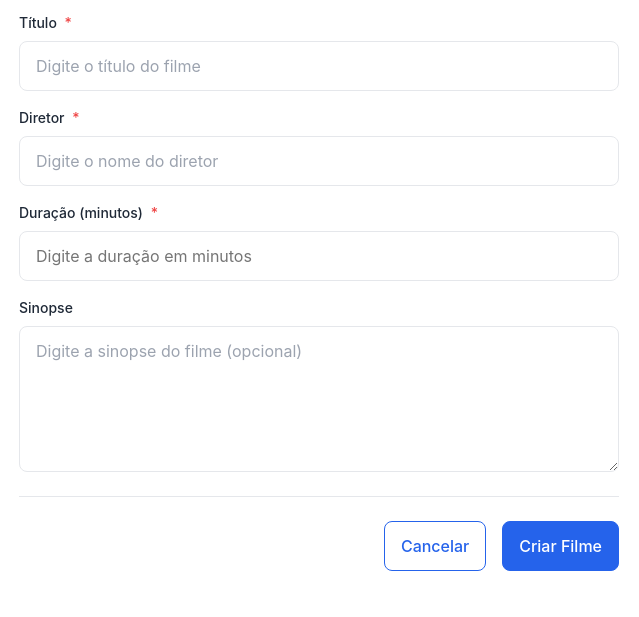
Test: MovieForm Component › validates duration is greater than 0
The image size is (639, 617).
Type "Test" into the field with placeholder "Digite o título do filme".
click(319, 66); type("Test")  # box 19,41 -> 619,91
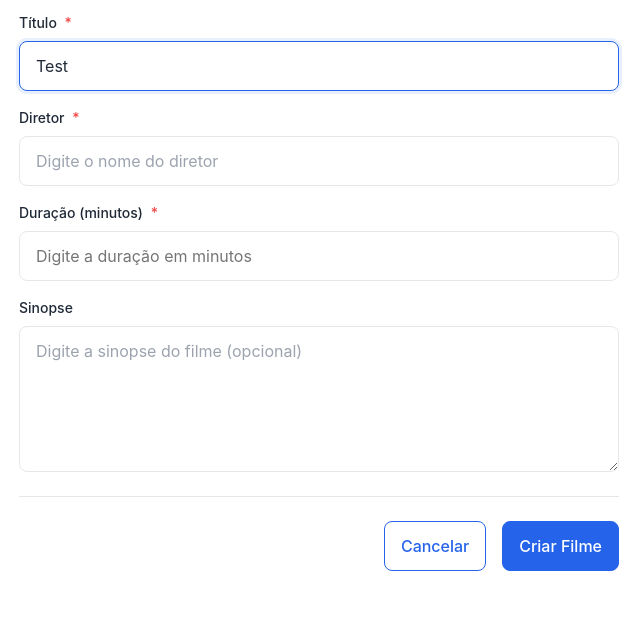
Type "Director" into the field with placeholder "Digite o nome do diretor".
click(319, 161); type("Director")  # box 19,136 -> 619,186
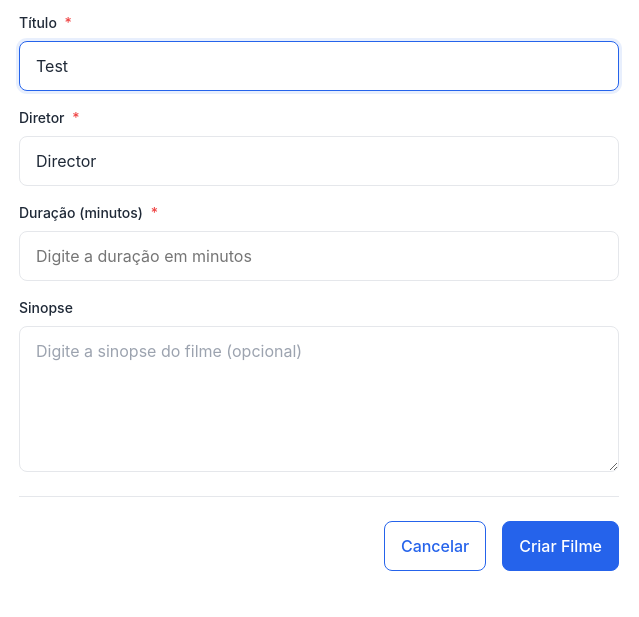
Type "0" into the number field with placeholder "Digite a duração em minutos".
click(319, 256); type("0")  # box 19,231 -> 619,281
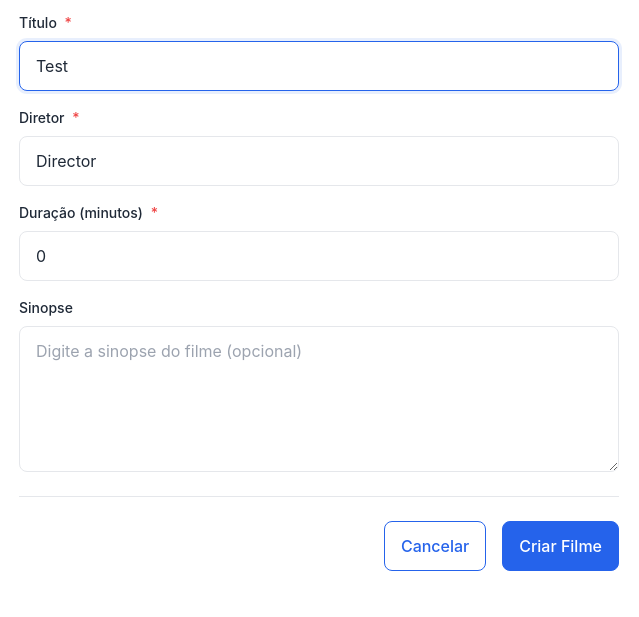
Submit the form
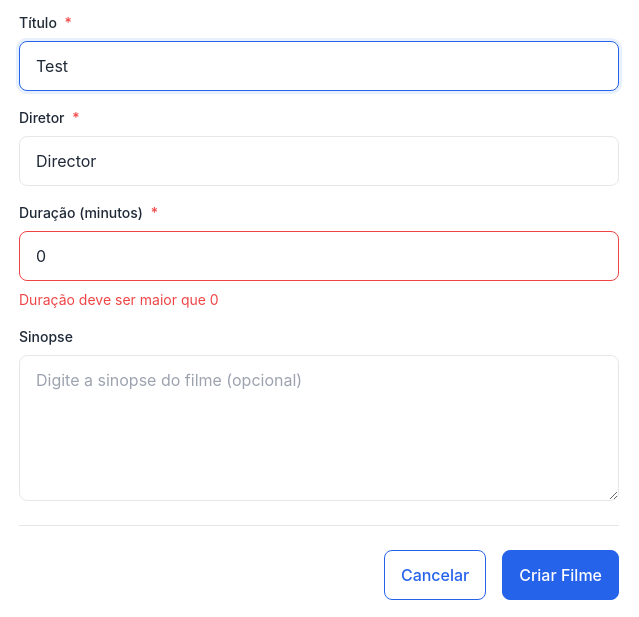
Expected: the form shows "Duração deve ser maior que 0", 19,291 -> 219,308
